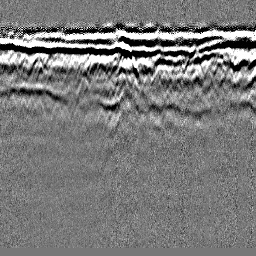cavity: (122, 39, 137, 68)
